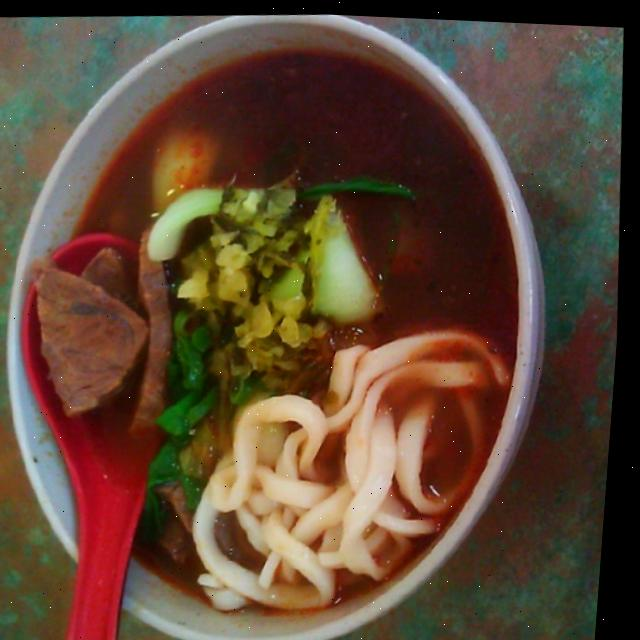面条主食: (0, 1, 601, 640)
